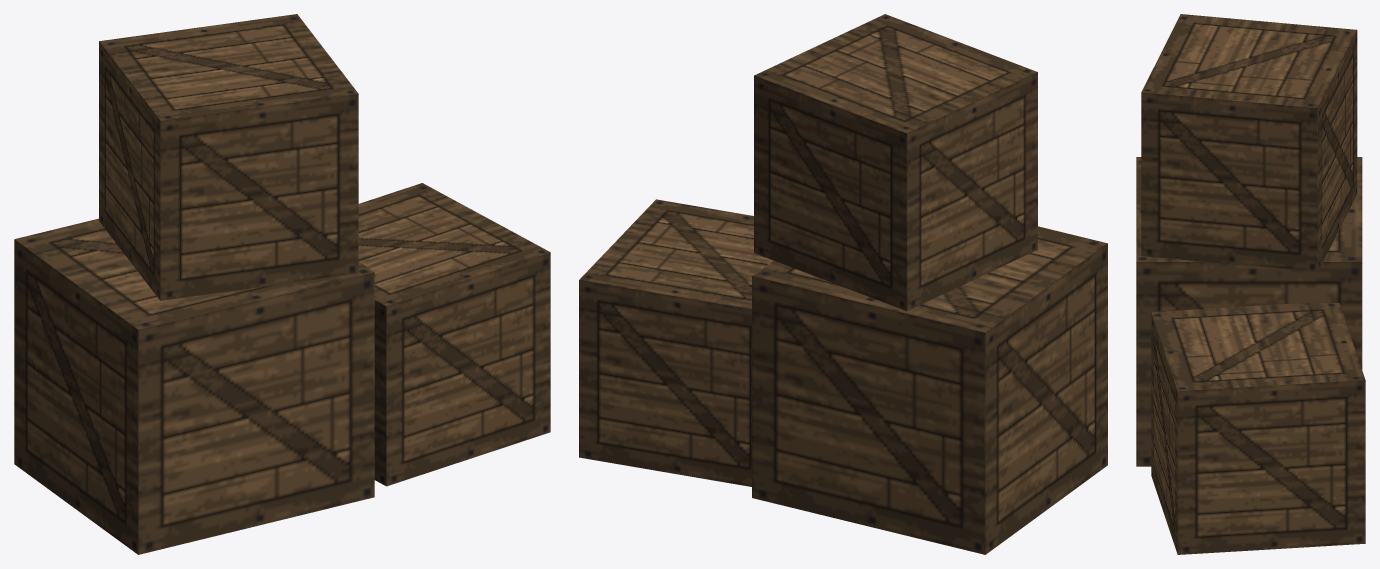
The model's file is Atmos_Crate_Stack.fbx.
3 renders of one model, left to right at view 1: azimuth 30°, elevation 25°; view 2: azimuth 150°, elevation 25°; view 3: azimuth 270°, elevation 25°, orthographic. The views are drawn at different scales.
Parts seen in each view (by area): view 1: Atmos_Crate_Stack; view 2: Atmos_Crate_Stack; view 3: Atmos_Crate_Stack.
Boxes of the visible parts, x1,y1,x2,y2 form: Atmos_Crate_Stack: (14,14,550,554); Atmos_Crate_Stack: (579,14,1107,554); Atmos_Crate_Stack: (1136,14,1365,554).
Bounding box in the file's own units: 101 × 90 × 50.72.
